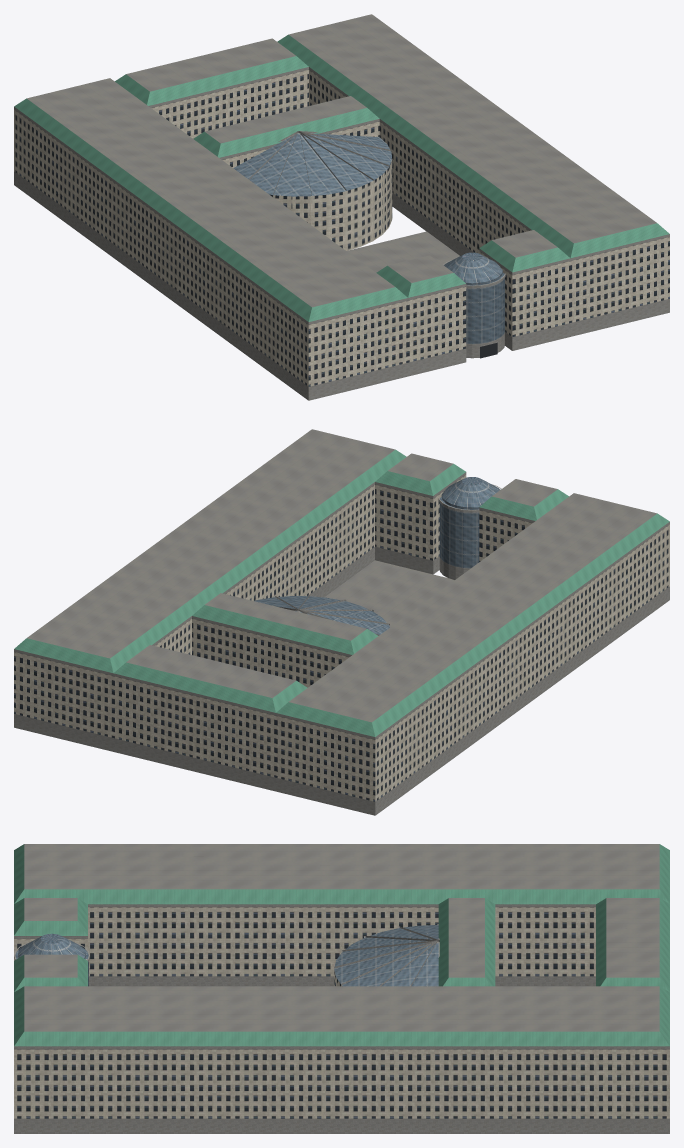
The model's file is reagan_building.glb.
3 views of the same model, one above another, from view 1: azimuth 30°, elevation 25°; view 2: azimuth 150°, elevation 25°; view 3: azimuth 270°, elevation 25° (orthographic). The views are drawn at different scales.
Visible parts, largest first — view 1: reagan_building; view 2: reagan_building; view 3: reagan_building.
Boxes of the visible parts, x1=… form: reagan_building: x1=14, y1=14, x2=669, y2=400; reagan_building: x1=14, y1=429, x2=669, y2=815; reagan_building: x1=14, y1=844, x2=669, y2=1133.
Bounding box in the file's own units: 164 × 38.1 × 231.
Materials: 6 (6 with a texture image).
